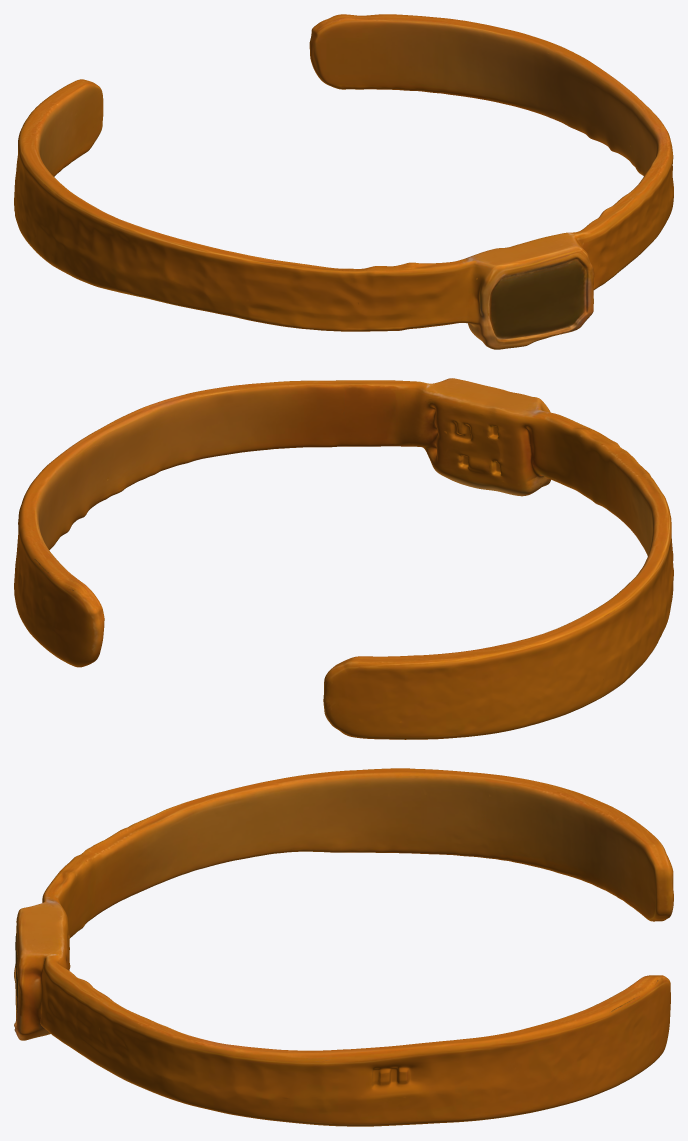
3 views of the same model, one above another, from view 1: azimuth 30°, elevation 25°; view 2: azimuth 150°, elevation 25°; view 3: azimuth 270°, elevation 25° (orthographic). The views are drawn at different scales.
Parts seen in each view (by area): view 1: material; view 2: material; view 3: material.
Part boxes in pixels (left/top/right/bottom): material: left=14, top=14, right=673, bottom=349; material: left=14, top=378, right=673, bottom=739; material: left=14, top=768, right=673, bottom=1126.
Size of the model in its own units: 1.09 by 0.176 by 1.05.
Materials: 1 (1 with a texture image).
